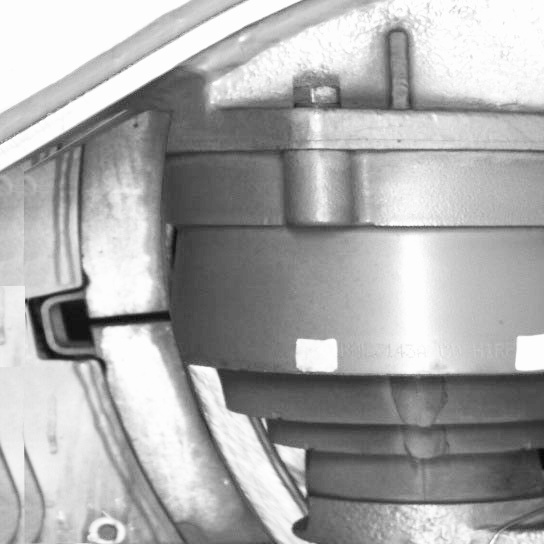ClosedKnifeSwitch: (84, 151, 288, 539)
